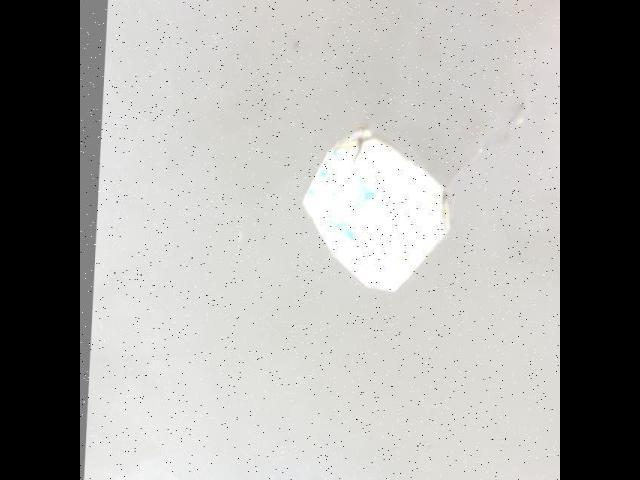Waste: (298, 119, 456, 304)
